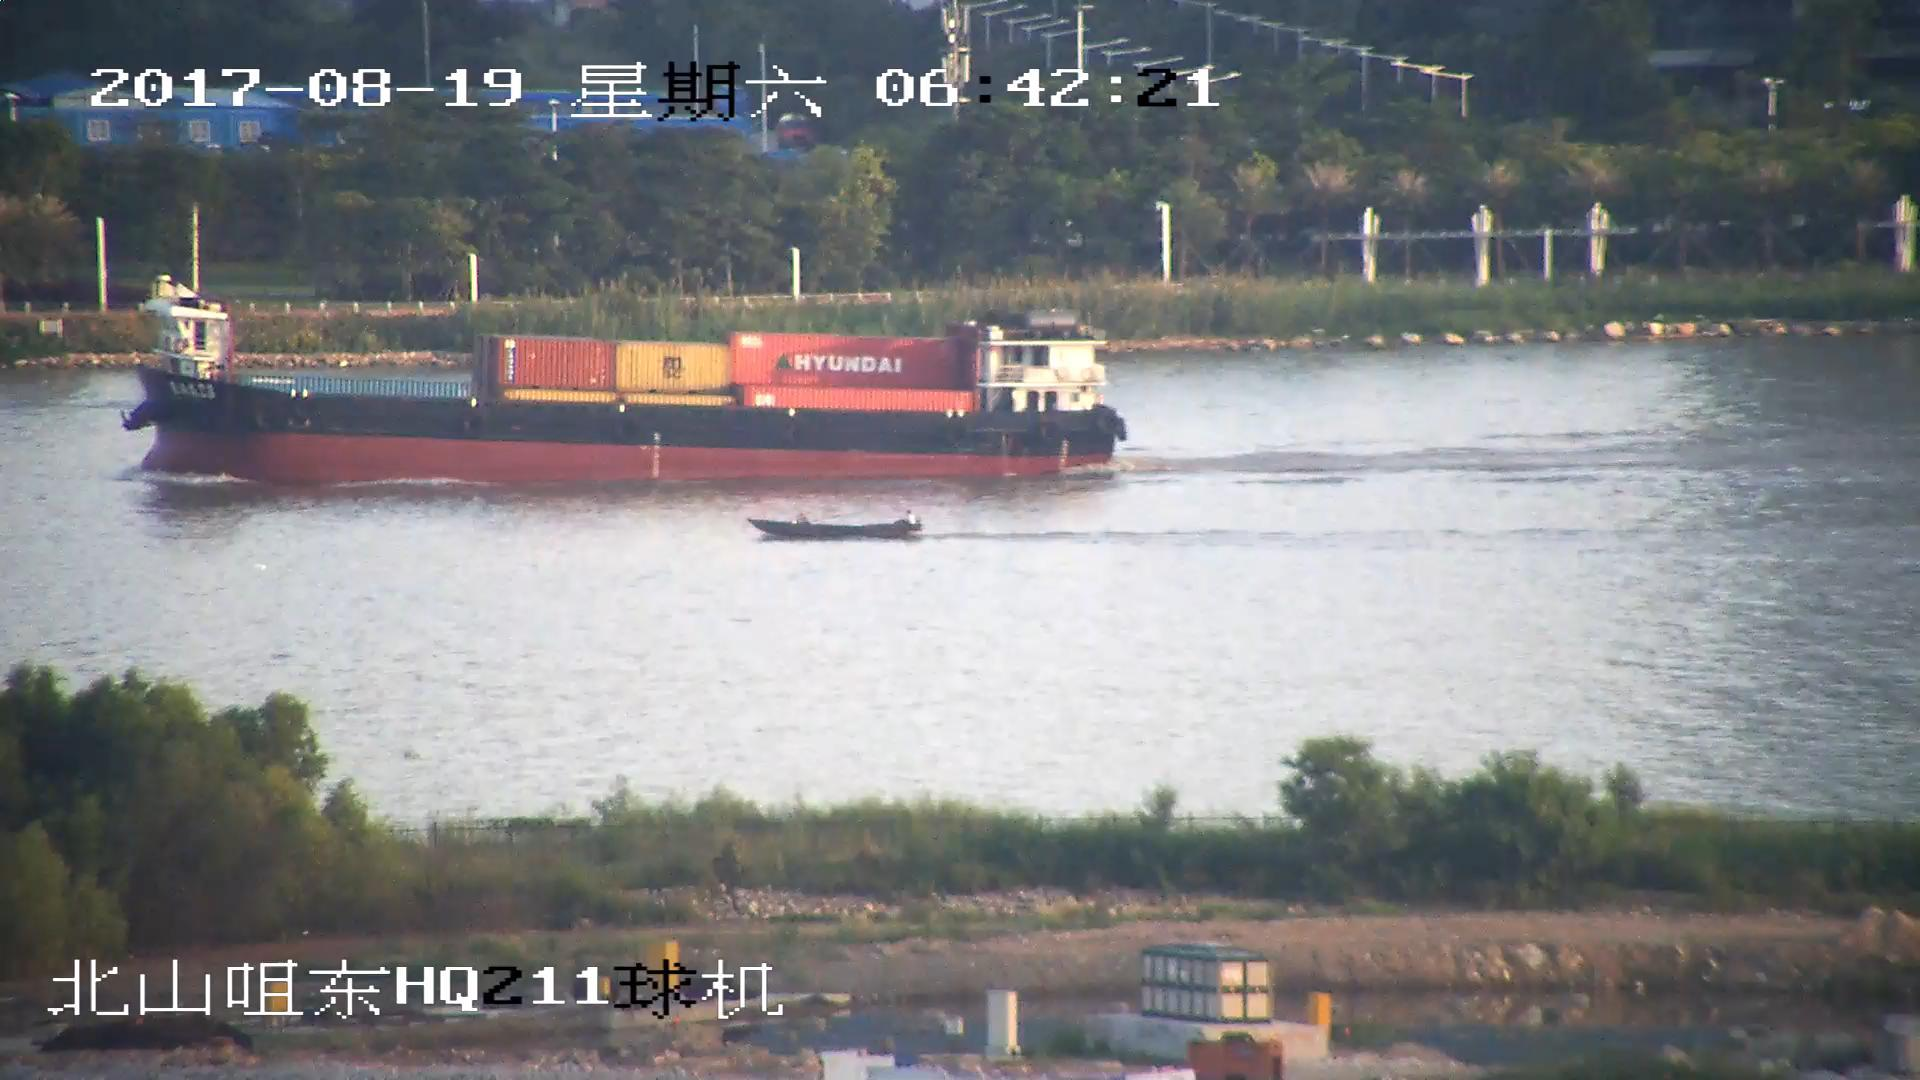Ship: (125, 274, 1127, 476), (752, 510, 920, 545)
